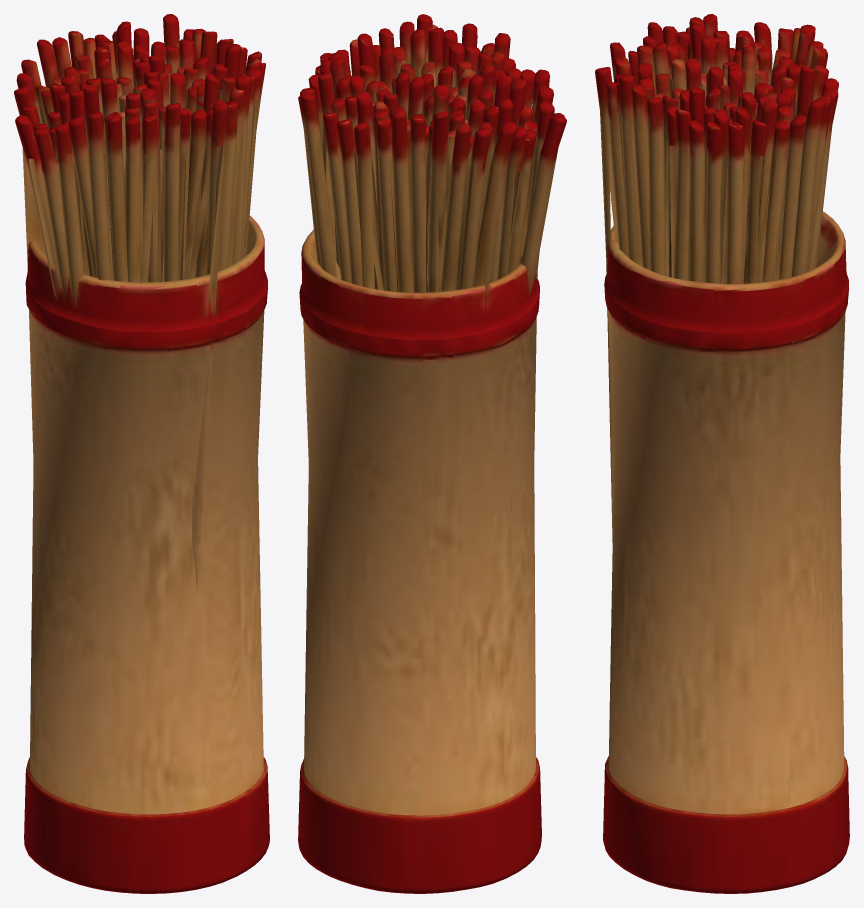
3 renders of one model, left to right at view 1: azimuth 30°, elevation 25°; view 2: azimuth 150°, elevation 25°; view 3: azimuth 270°, elevation 25°, orthographic.
Parts seen in each view (by area): view 1: tripo_node_51ccec14-c89e-4d22-97ce-ff558b44984e; view 2: tripo_node_51ccec14-c89e-4d22-97ce-ff558b44984e; view 3: tripo_node_51ccec14-c89e-4d22-97ce-ff558b44984e.
Part boxes in pixels (left/top/right/bottom): tripo_node_51ccec14-c89e-4d22-97ce-ff558b44984e: left=14, top=14, right=269, bottom=893; tripo_node_51ccec14-c89e-4d22-97ce-ff558b44984e: left=298, top=14, right=566, bottom=893; tripo_node_51ccec14-c89e-4d22-97ce-ff558b44984e: left=595, top=14, right=849, bottom=893.
Size of the model in its own units: 0.3255 by 0.9995 by 0.2913.
1 material, 1 textured.
